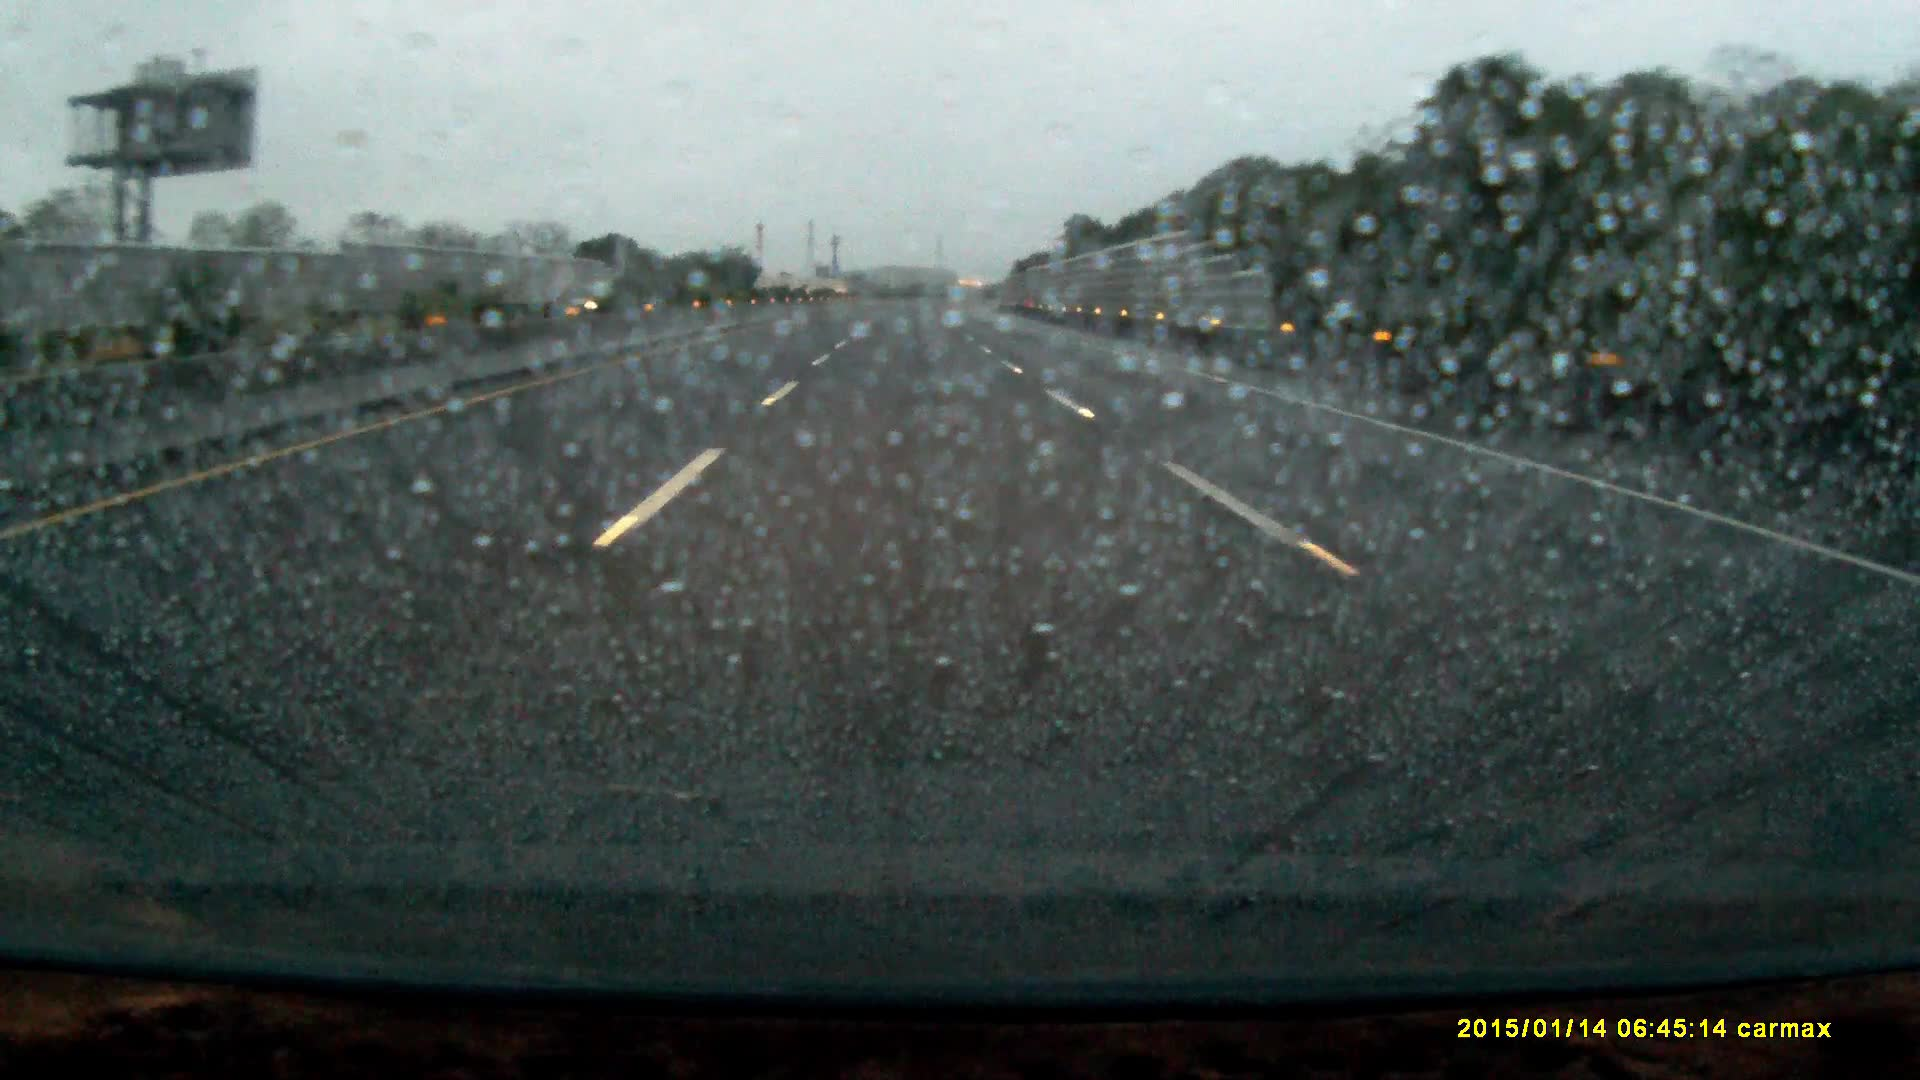vehicle: (556, 282, 617, 311)
